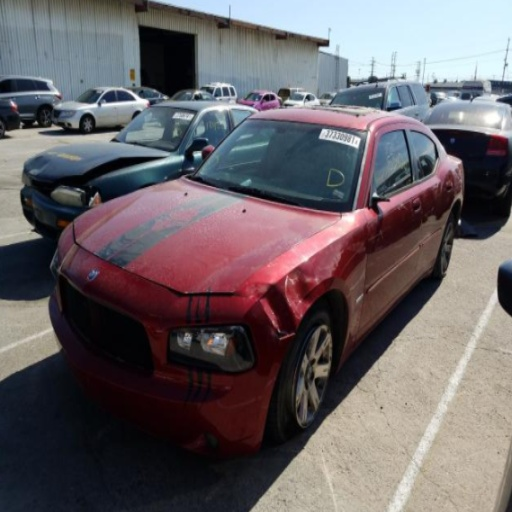dent: (243, 281, 297, 339), (285, 268, 314, 318), (313, 242, 345, 283), (349, 239, 366, 255), (304, 270, 313, 278)
scratch: (279, 331, 295, 341)
